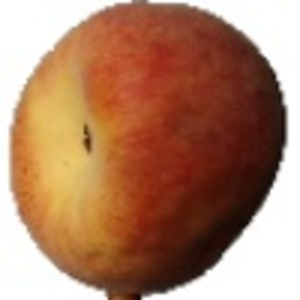pêssego: (6, 1, 288, 300)
